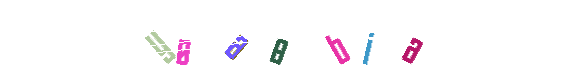0: (195, 0, 275, 80)
8: (234, 0, 314, 80)
A: (230, 0, 310, 80), (372, 0, 452, 80)
B: (247, 0, 327, 80)
I: (327, 0, 407, 80)
Y: (156, 0, 236, 80)
